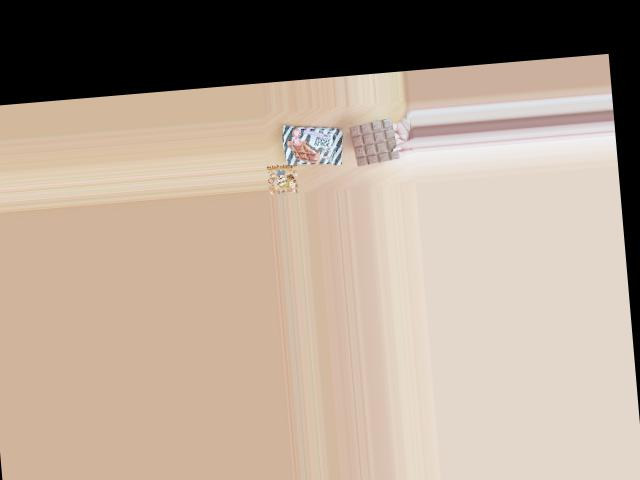chocolate: (278, 121, 347, 167)
